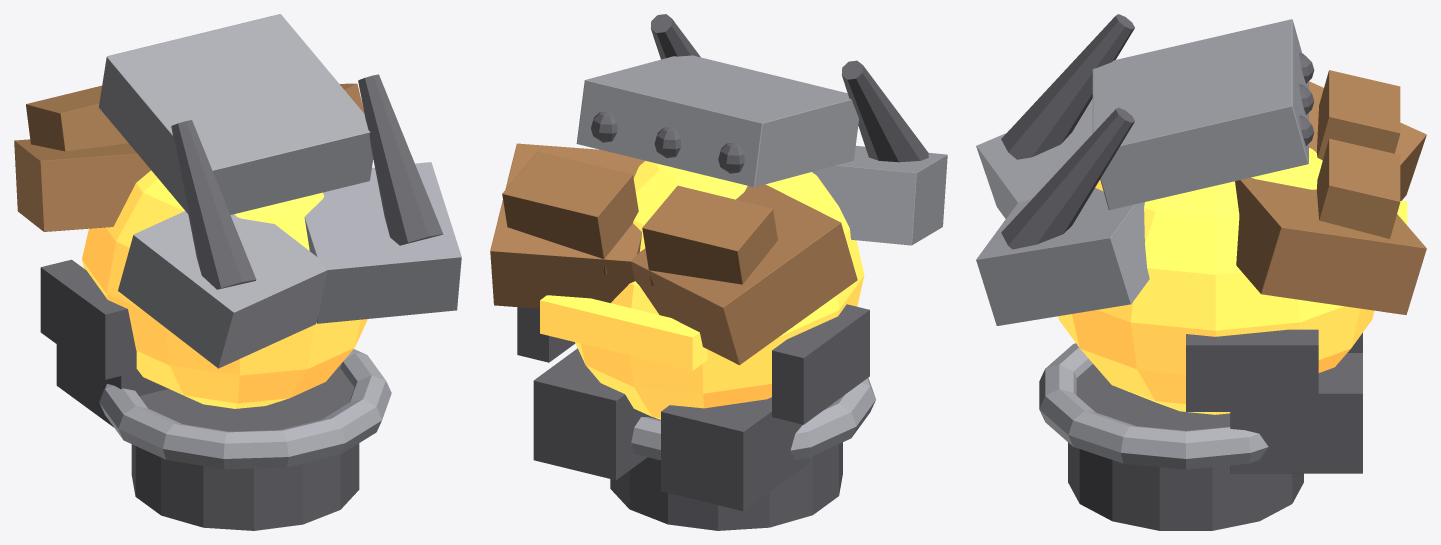
The model's file is fracture-helm.glb.
3 renders of one model, left to right at view 1: azimuth 30°, elevation 25°; view 2: azimuth 150°, elevation 25°; view 3: azimuth 270°, elevation 25°, orthographic. The views are drawn at different scales.
Parts seen in each view (by area): view 1: dome_top, core, neck, dome_br, dome_bl, neckring, dome_fr, cheek_r, horn_l, horn_r, brow_r, jaw_r; view 2: dome_top, dome_fr, core, jaw_r, dome_fl, brow_l, jaw_l, brow_r, dome_br, neck, cheek_r, visor (+7 smaller); view 3: dome_top, core, dome_fl, neck, dome_bl, cheek_l, neckring, jaw_l, brow_l, horn_l, horn_r, brow_r (+2 smaller).
Part boxes in pixels (<box>): dome_top: <box>98,14,373,214</box>; core: <box>82,170,367,408</box>; neck: <box>131,367,359,530</box>; dome_br: <box>118,211,327,368</box>; dome_bl: <box>304,162,461,323</box>; neckring: <box>99,349,391,469</box>; dome_fr: <box>14,139,150,231</box>; cheek_r: <box>40,259,136,379</box>; horn_l: <box>358,74,442,245</box>; horn_r: <box>171,120,256,289</box>; brow_r: <box>26,85,128,151</box>; jaw_r: <box>56,344,168,427</box>; dome_top: <box>576,55,858,187</box>; dome_fr: <box>631,184,857,365</box>; core: <box>575,161,864,419</box>; jaw_r: <box>661,397,809,511</box>; dome_fl: <box>490,143,644,308</box>; brow_l: <box>502,151,638,274</box>; jaw_l: <box>533,348,655,480</box>; brow_r: <box>642,185,777,286</box>; dome_br: <box>812,146,947,245</box>; neck: <box>610,418,842,530</box>; cheek_r: <box>772,304,869,424</box>; visor: <box>540,295,707,370</box>; dome_top: <box>1092,19,1308,210</box>; core: <box>1058,148,1374,414</box>; dome_fl: <box>1235,177,1426,314</box>; neck: <box>1068,364,1303,530</box>; dome_bl: <box>976,188,1149,325</box>; cheek_l: <box>1186,329,1318,411</box>; neckring: <box>1039,343,1268,469</box>; jaw_l: <box>1230,353,1362,473</box>; brow_l: <box>1316,138,1400,238</box>; horn_l: <box>1001,107,1134,249</box>; horn_r: <box>1001,14,1134,159</box>; brow_r: <box>1316,70,1400,160</box>.
Size of the model in its own units: 0.2648 by 0.314 by 0.3056.
